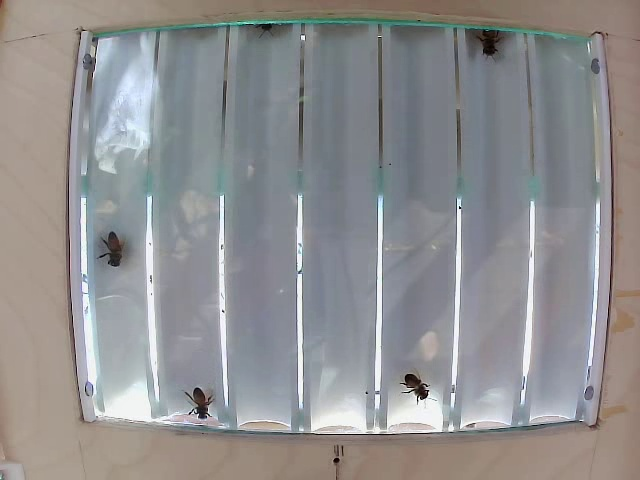bee: (97, 230, 130, 267), (477, 25, 507, 65), (398, 374, 434, 403), (188, 386, 212, 422)
